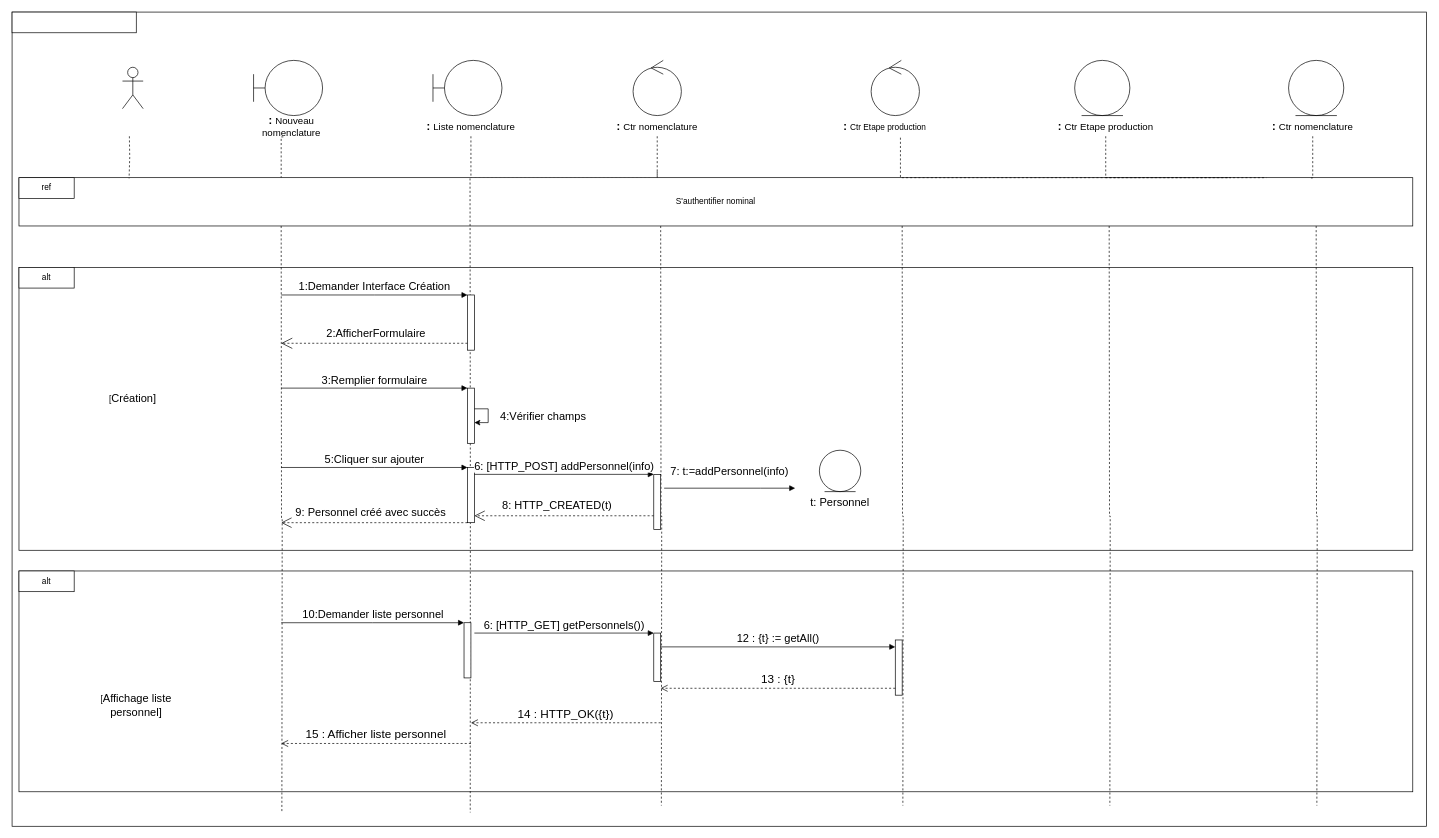
Some shapes in this 1439 by 838 pixel diagram are drawn without their labels. The centre of each missing label's shape, as x and y in pixels:
"DS Gérer personnel" goes at (x=73, y=22).
"Responsable Développement" goes at (x=132, y=88).
